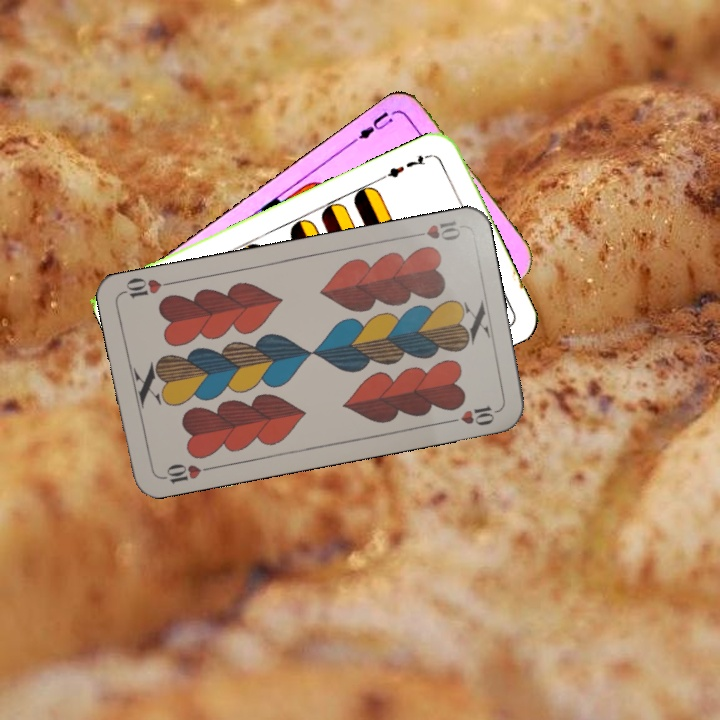E7: (378, 150, 434, 182)
EU: (349, 107, 396, 145)
H10: (156, 459, 215, 487), (405, 216, 463, 244)
